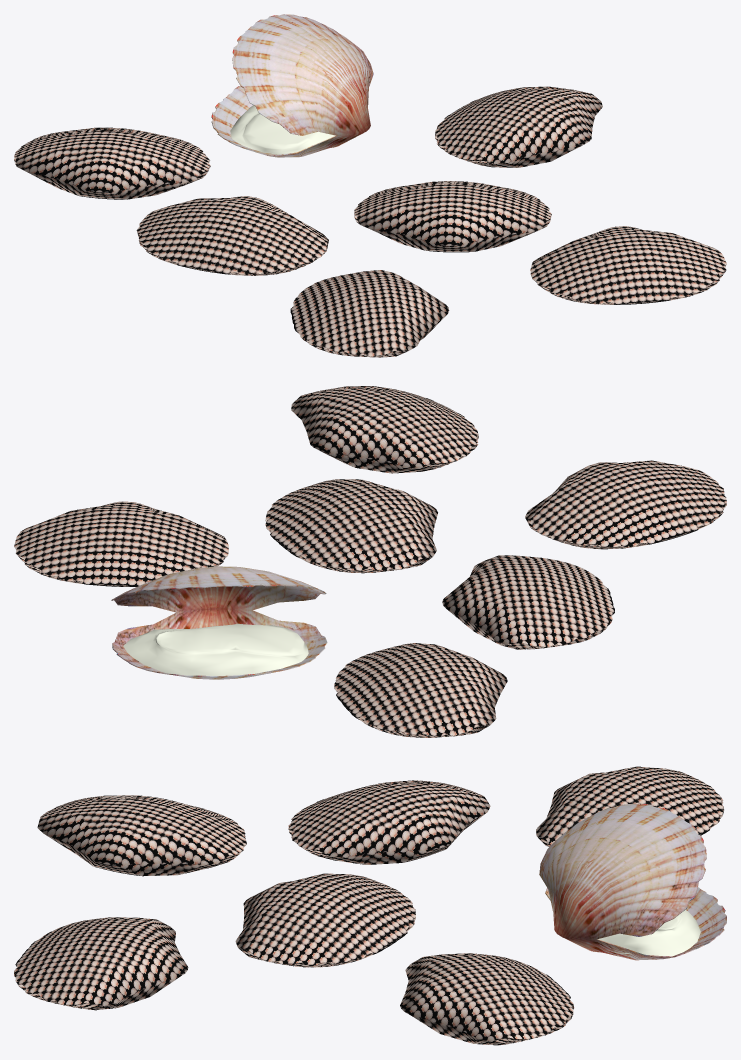
3 renders of one model, top to bottom at view 1: azimuth 30°, elevation 25°; view 2: azimuth 150°, elevation 25°; view 3: azimuth 270°, elevation 25°, orthographic. The views are drawn at different scales.
Visible parts, largest first — view 1: Model_147_Scallop_01, Model_147_Scallop_04, Model_147_Scallop_02, Model_147_Scallop_03, Model_147_Scallop_00, Model_147_Scallop_06, Model_147_Scallop_05, Model_147_Scallop_07; view 2: Model_147_Scallop_06, Model_147_Scallop_05, Model_147_Scallop_03, Model_147_Scallop_00, Model_147_Scallop_04, Model_147_Scallop_02, Model_147_Scallop_01, Model_147_Scallop_07; view 3: Model_147_Scallop_01, Model_147_Scallop_03, Model_147_Scallop_06, Model_147_Scallop_02, Model_147_Scallop_04, Model_147_Scallop_05, Model_147_Scallop_00, Model_147_Scallop_07.
Part boxes in pixels (x1,y1,x2,y2): Model_147_Scallop_01: (211, 14, 373, 157); Model_147_Scallop_04: (530, 226, 726, 304); Model_147_Scallop_02: (136, 196, 328, 275); Model_147_Scallop_03: (354, 181, 551, 252); Model_147_Scallop_00: (14, 127, 210, 199); Model_147_Scallop_06: (290, 270, 449, 357); Model_147_Scallop_05: (435, 86, 602, 167); Model_147_Scallop_07: (230, 105, 335, 154); Model_147_Scallop_06: (525, 460, 726, 549); Model_147_Scallop_05: (14, 501, 228, 586); Model_147_Scallop_03: (265, 479, 437, 573); Model_147_Scallop_00: (334, 643, 507, 737); Model_147_Scallop_04: (291, 386, 478, 473); Model_147_Scallop_02: (442, 555, 614, 649); Model_147_Scallop_01: (111, 566, 327, 679); Model_147_Scallop_07: (123, 623, 308, 675); Model_147_Scallop_01: (539, 803, 726, 960); Model_147_Scallop_03: (235, 873, 415, 967); Model_147_Scallop_06: (37, 795, 246, 876); Model_147_Scallop_02: (288, 780, 490, 864); Model_147_Scallop_04: (14, 917, 188, 1010); Model_147_Scallop_05: (400, 953, 574, 1045); Model_147_Scallop_00: (536, 766, 723, 846); Model_147_Scallop_07: (598, 909, 700, 956).
Size of the model in its own units: 89.6 by 17.11 by 100.
2 materials, 1 textured.
